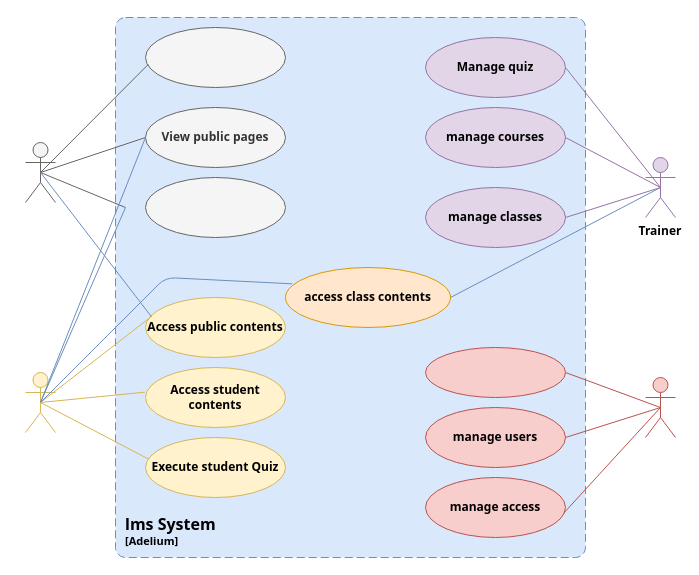
Image size: 699x575. Some labels were removed from this diagram. The shapes that lost their labels are listed below. From the top down, each one's centre as x and y in pixels, then its label:
the point at 215,57: Create profile
the point at 40,172: visitor
the point at 215,207: Execute public Quiz
the point at 495,372: access data reporting
the point at 40,402: Student
the point at 660,407: Admin
